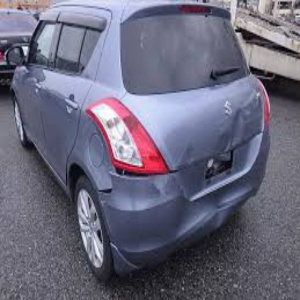bumper: (90, 170, 176, 237)
